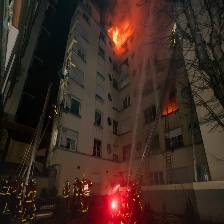fire: (108, 20, 128, 46)
